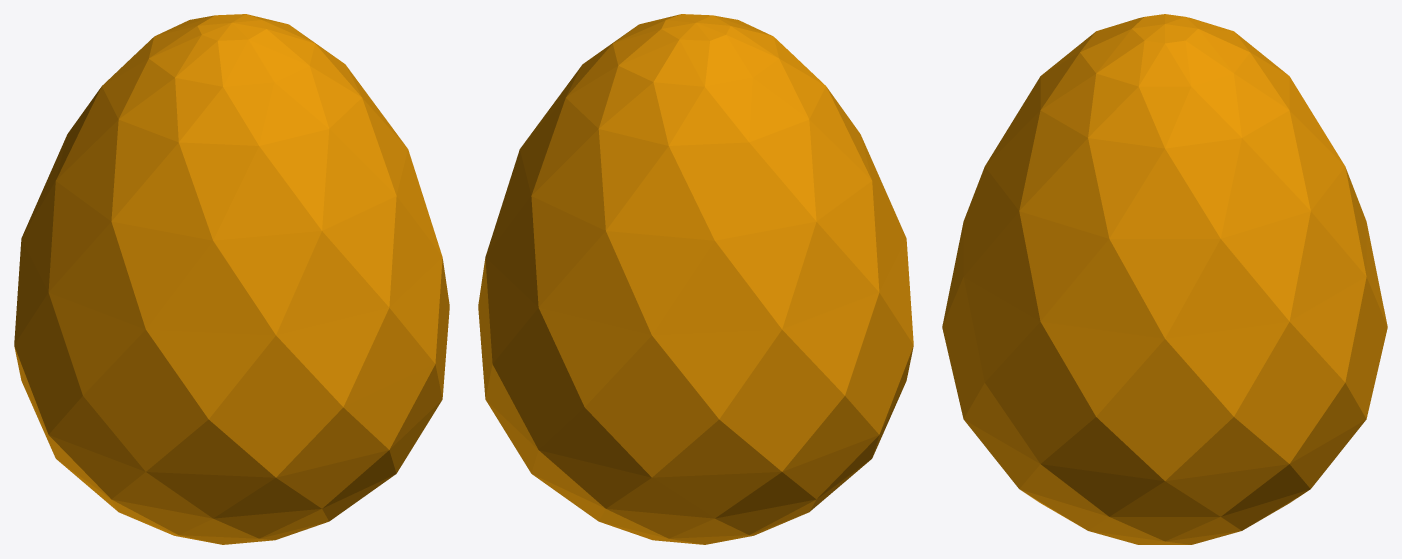
File: Egg.fbx
3 views of the same model, side by side, from view 1: azimuth 30°, elevation 25°; view 2: azimuth 150°, elevation 25°; view 3: azimuth 270°, elevation 25° (orthographic).
Parts seen in each view (by area): view 1: EggA; view 2: EggA; view 3: EggA.
Part boxes in pixels (box(x1,y1,x2,y2)): EggA: box(14, 14, 449, 544); EggA: box(478, 14, 913, 544); EggA: box(942, 14, 1387, 544).
Size of the model in its own units: 37.77 by 49.61 by 39.71.
